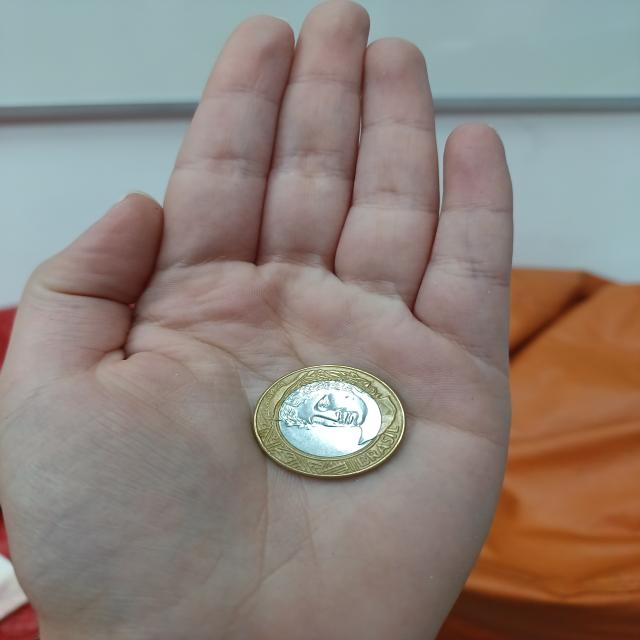1 real: (244, 364, 414, 484)
